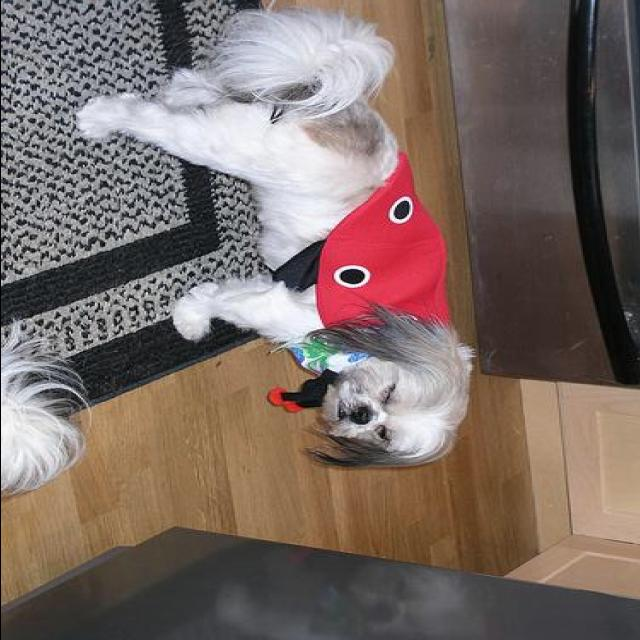shih_tzu: (68, 10, 470, 474)
